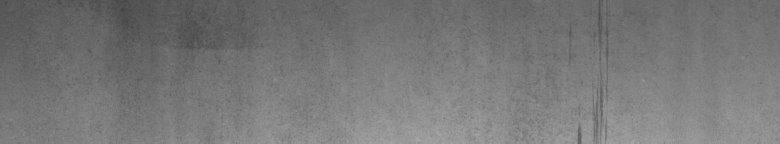ka: (569, 4, 619, 136)
